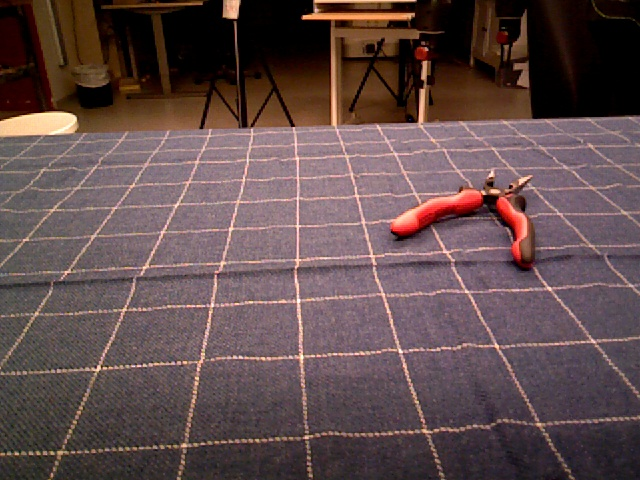plier1: (390, 166, 538, 269)
